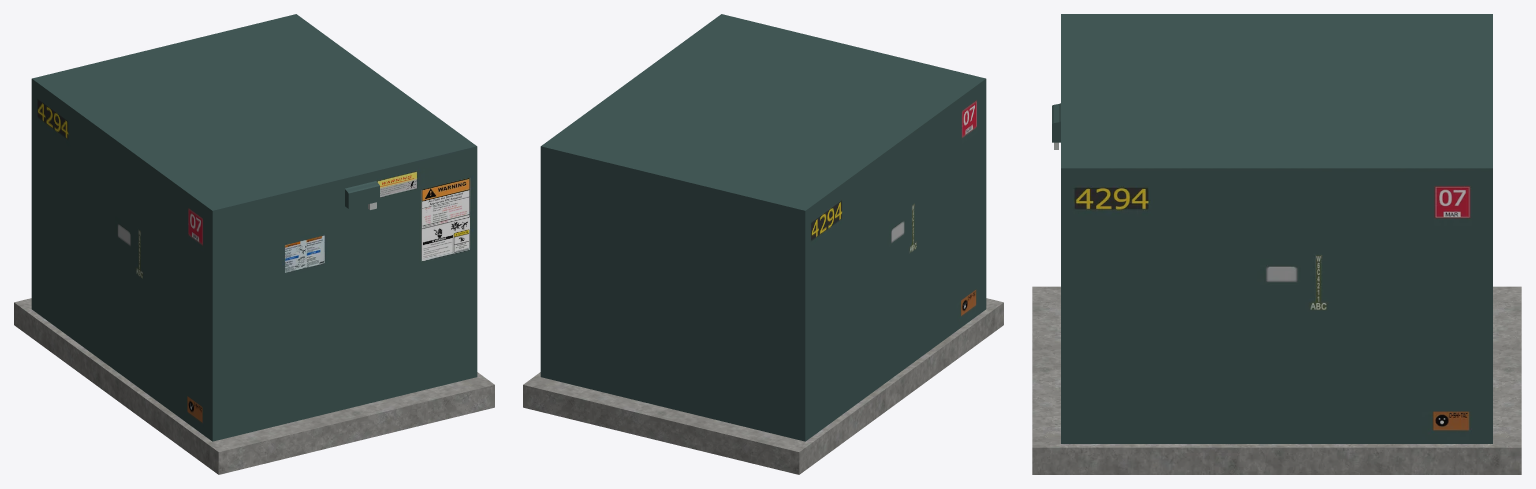
Rendered from transformer-pad-mount.glb.
3 renders of one model, left to right at view 1: azimuth 30°, elevation 25°; view 2: azimuth 150°, elevation 25°; view 3: azimuth 270°, elevation 25°, orthographic. The views are drawn at different scales.
Visible parts, largest first — view 1: Box001_2; view 2: Box001_2; view 3: Box001_2.
Boxes of the visible parts, x1,y1,x2,y2 form: Box001_2: (14, 14, 494, 474); Box001_2: (523, 14, 1003, 474); Box001_2: (1032, 14, 1521, 474).
Size of the model in its own units: 1.46 by 1.28 by 1.87.
Materials: 1 (1 with a texture image).
